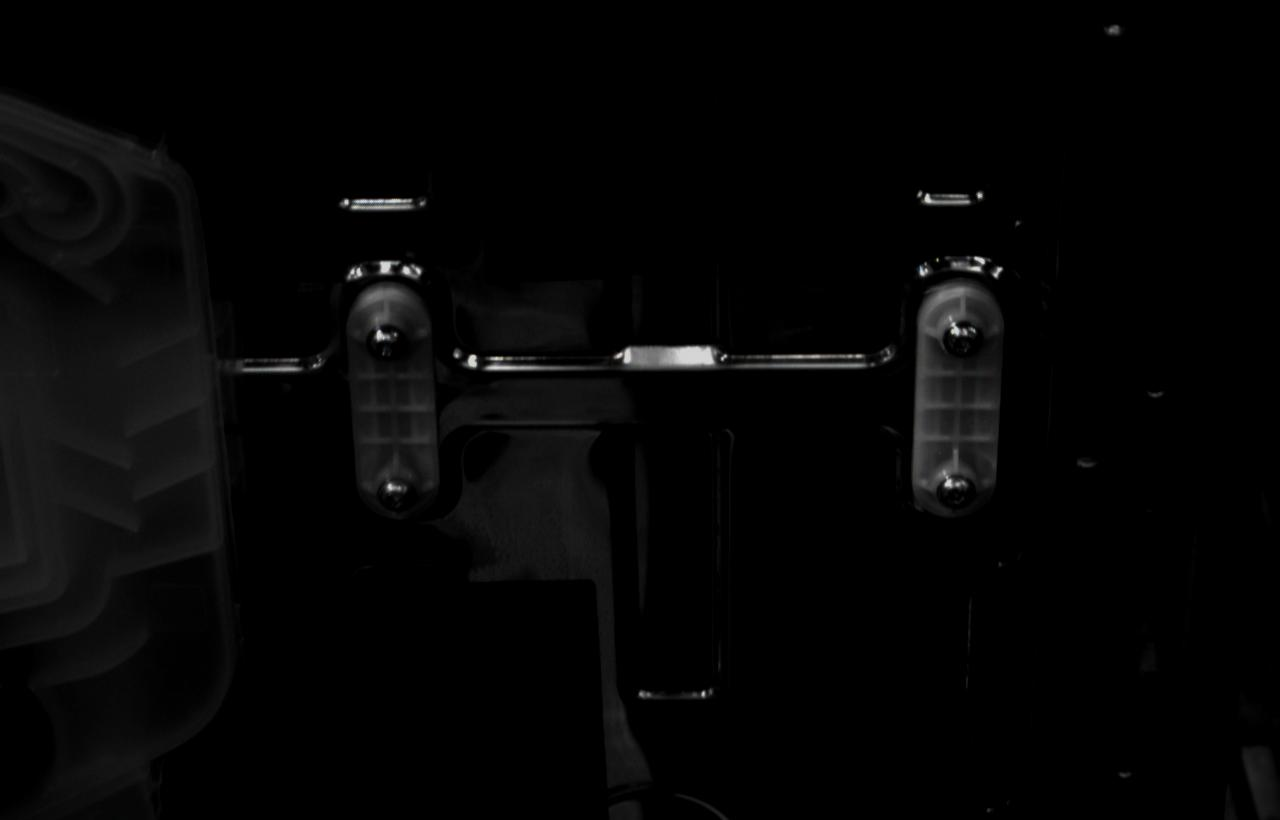vida-ok: (943, 319, 983, 358), (377, 478, 417, 512), (366, 325, 404, 360), (937, 475, 975, 510)
